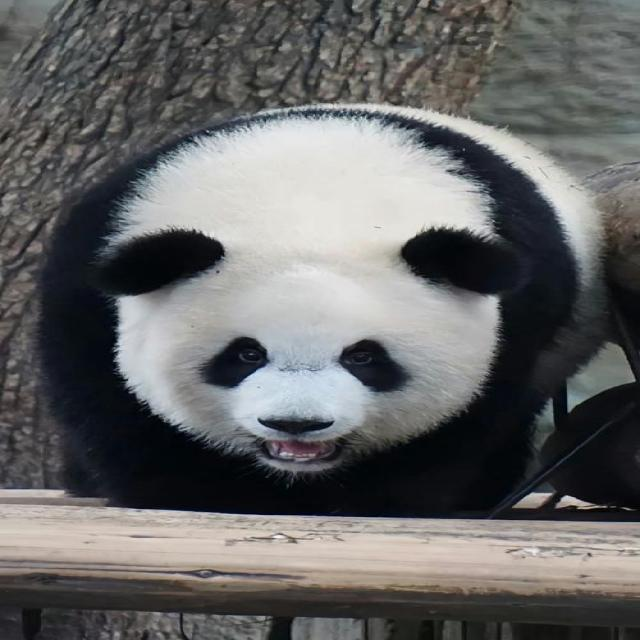panda: (29, 91, 640, 517)
